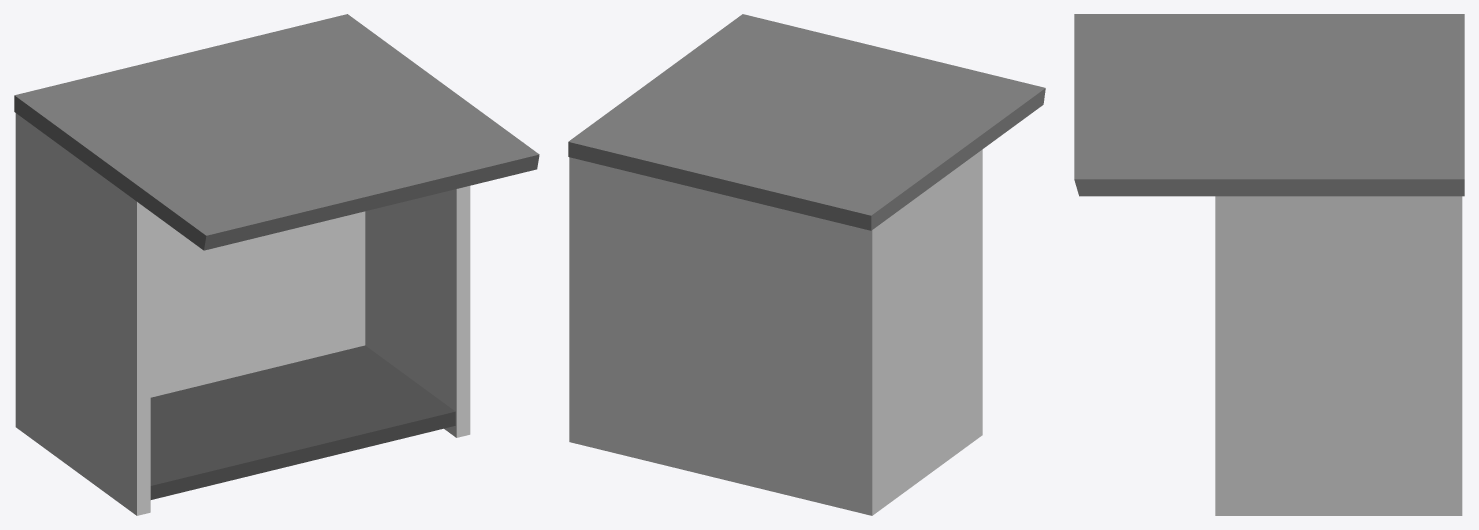
Rendered from Office_CounterB2.fbx.
The picture shows the model from 3 angles, left to right: view 1: azimuth 30°, elevation 25°; view 2: azimuth 150°, elevation 25°; view 3: azimuth 270°, elevation 25°; orthographic projection. The views are drawn at different scales.
Visible parts, largest first — view 1: Office_CounterB2; view 2: Office_CounterB2; view 3: Office_CounterB2.
Boxes of the visible parts, x1,y1,x2,y2 form: Office_CounterB2: (14,14,539,515); Office_CounterB2: (568,14,1045,515); Office_CounterB2: (1074,14,1464,515).
Bounding box in the file's own units: 100 × 94.9 × 99.79.
